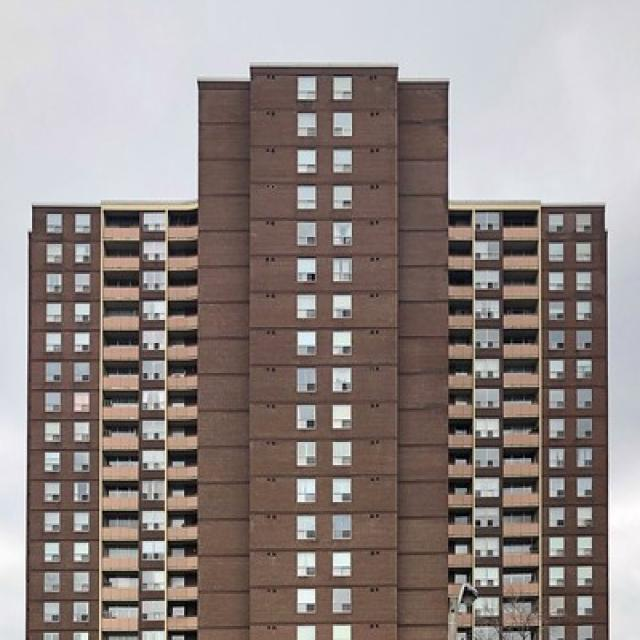building: (190, 60, 454, 640)
